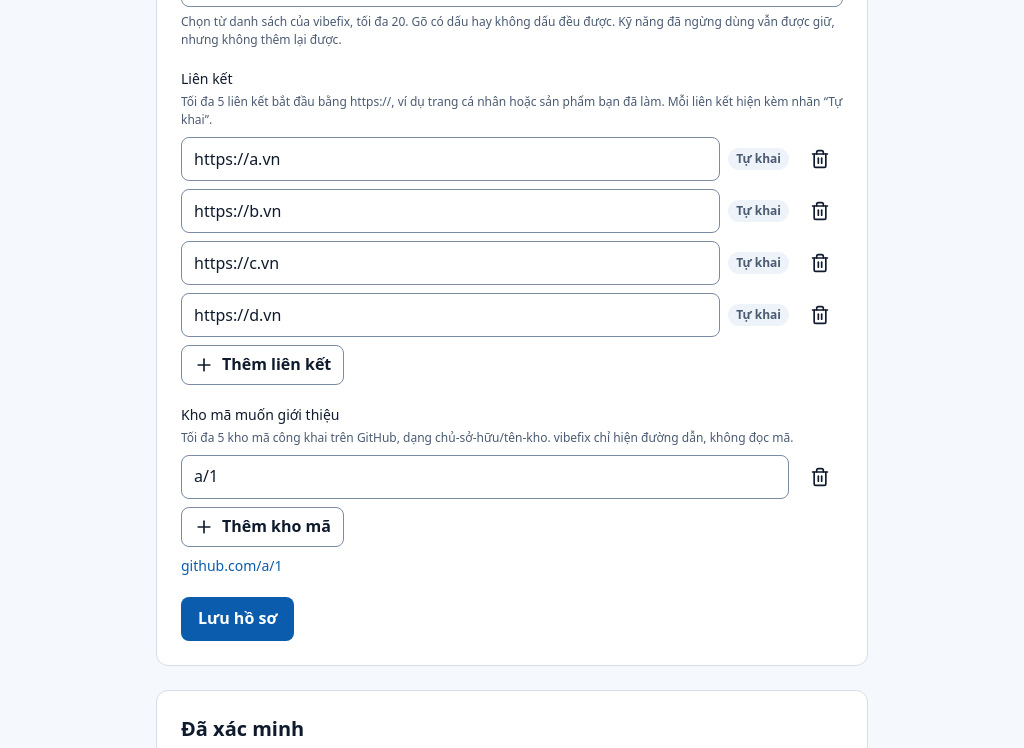
Test case: ACC-1 "Bạn tự nhập" (Story 19.3, FR-3, FR-4, UX-DR44) › marks every link "Tự khai", offers at most 5, and shows the repositories as links only
(page scrolled)
Check: the text "Tự khai" is shown 4 times, box [728,148,789,170]; [728,200,789,222]; [728,252,789,274]; [728,304,789,326]
What coordinates should you click on to do the following:
click the button "Thêm liên kết"
I would click on:
 (263, 365)
Its box is [181,345,344,385].
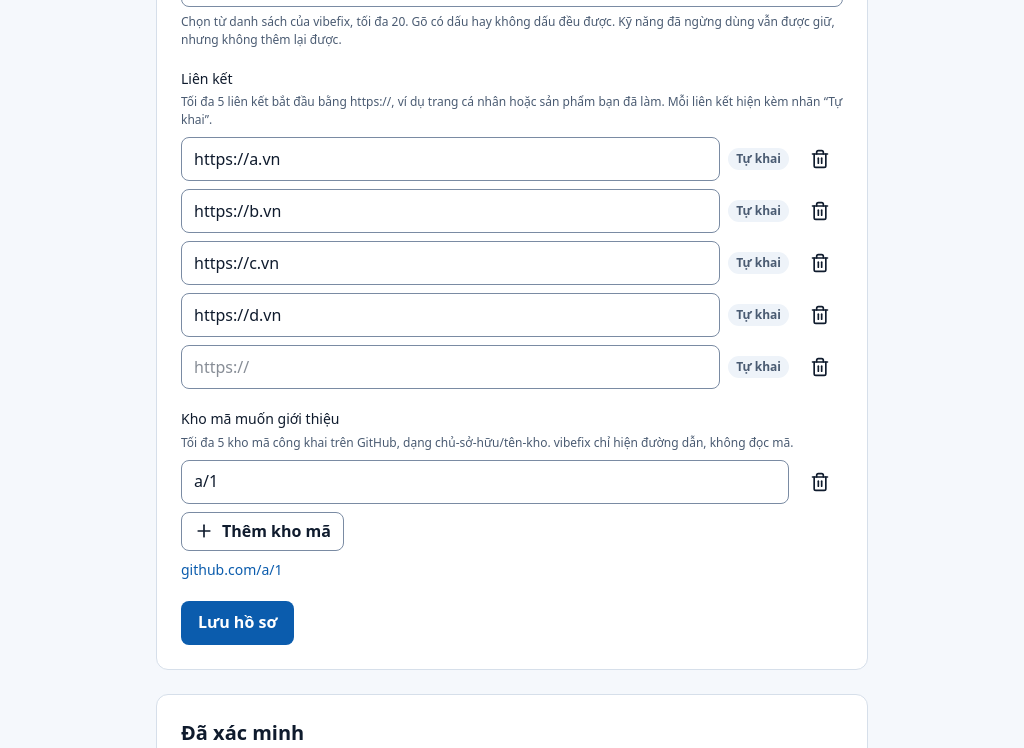
Check: the text "Tự khai" is shown 5 times, box [728,148,789,170]; [728,200,789,222]; [728,252,789,274]; [728,304,789,326]; [728,356,789,378]
Check: the button "Thêm liên kết" is gone
